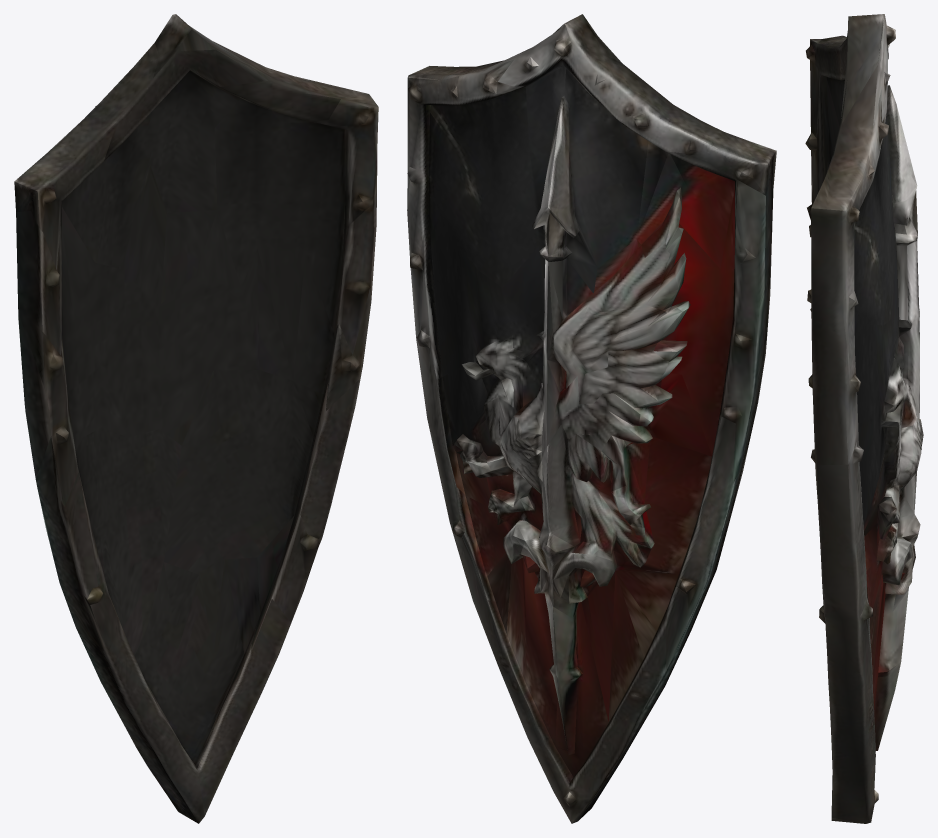
Rendered from kite_griffin.glb.
3 views of the same model, side by side, from view 1: azimuth 30°, elevation 25°; view 2: azimuth 150°, elevation 25°; view 3: azimuth 270°, elevation 25° (orthographic). The views are drawn at different scales.
Parts seen in each view (by area): view 1: kite_griffin; view 2: kite_griffin; view 3: kite_griffin.
Part boxes in pixels (left/top/right/bottom): kite_griffin: left=14, top=14, right=378, bottom=823; kite_griffin: left=407, top=14, right=776, bottom=823; kite_griffin: left=805, top=14, right=923, bottom=823.
Size of the model in its own units: 0.3931 by 0.8381 by 0.1111.
1 material, 1 textured.
